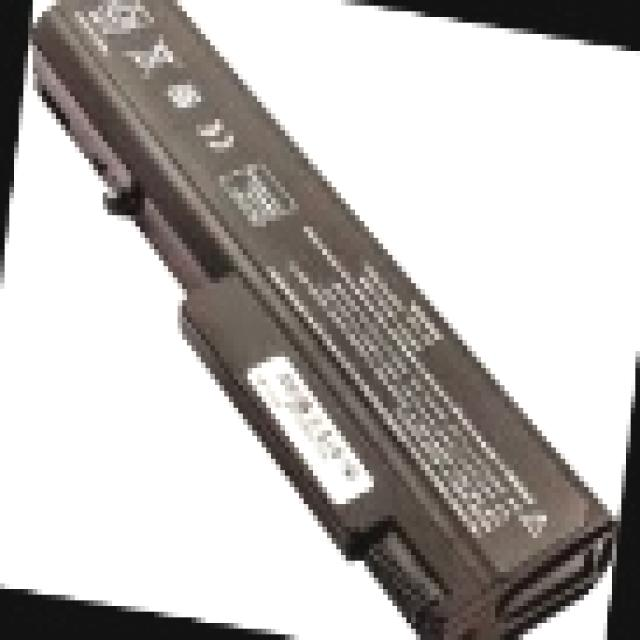elektronik: (30, 0, 607, 633)
